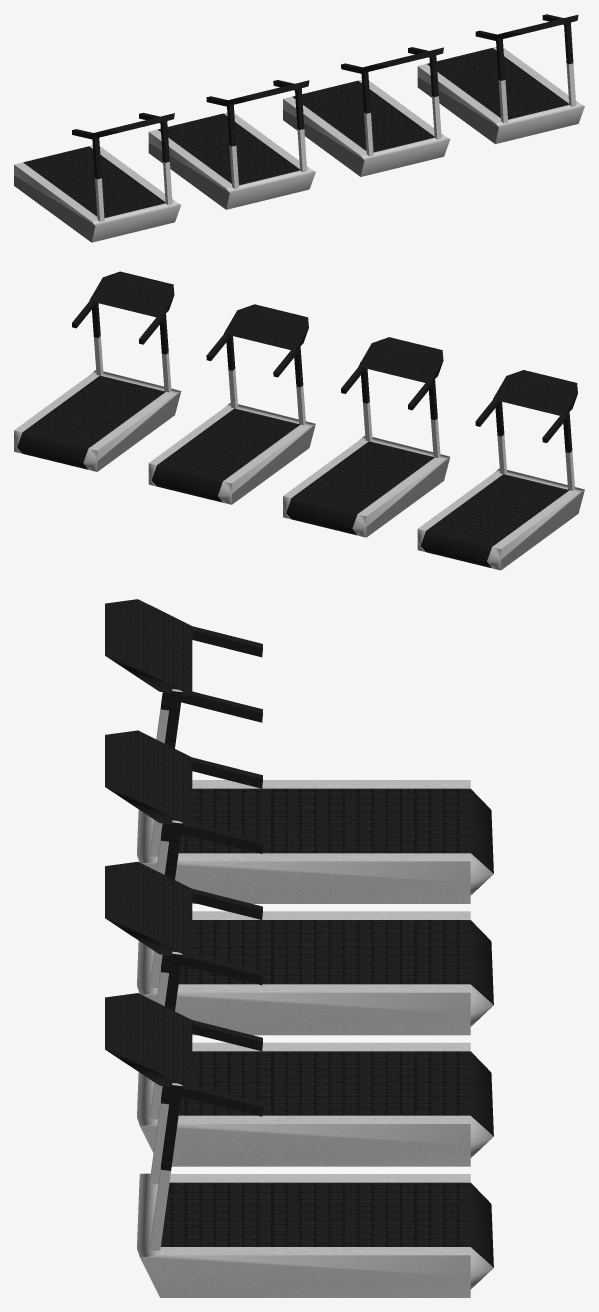
The model's file is model_trainingroom_item01.obj.
3 views of the same model, one above another, from view 1: azimuth 30°, elevation 25°; view 2: azimuth 150°, elevation 25°; view 3: azimuth 270°, elevation 25° (orthographic). The views are drawn at different scales.
Visible parts, largest first — view 1: pCube1 group13 group17 group46 group53, group17 group46 group53 pasted__pasted__pCube1 pasted__pasted__g, group17 group46 group53 pasted__pasted__pasted__pCube1 pasted__p, group17 group46 group53 pasted__pCube1 pasted__group13 group14, group17 group46 group53 pasted__pasted__group13 pasted__group14 , group17 group46 group53 pasted__pasted__pasted__group13 pasted__, group17 group46 group53 pasted__group13 group14 pasted__pasted__, group13 group17 group46 group53 pasted__pasted__pCube2 pasted__g, group13 group17 group46 group53 pasted__pCube2 group9, group13 group17 group46 group53 pCube2, group17 group46 group53 pasted__group13 group14 pasted__pCube2; view 2: group17 group46 group53 pasted__pasted__pCube1 pasted__pasted__g, group17 group46 group53 pasted__pCube1 pasted__group13 group14, pCube1 group13 group17 group46 group53, group17 group46 group53 pasted__pasted__pasted__pCube1 pasted__p, group17 group46 group53 pasted__pasted__group13 pasted__group14 , group17 group46 group53 pasted__pasted__pasted__group13 pasted__, group17 group46 group53 pasted__group13 group14 pasted__pasted__, group13 group17 group46 group53 pasted__pasted__pCube2 pasted__g, group13 group17 group46 group53 pasted__pCube2 group9, group17 group46 group53 pasted__group13 group14 pasted__pCube2, group13 group17 group46 group53 pCube2; view 3: group17 group46 group53 pasted__pasted__pasted__pCube1 pasted__p, group17 group46 group53 pasted__pasted__pCube1 pasted__pasted__g, group17 group46 group53 pasted__pCube1 pasted__group13 group14, pCube1 group13 group17 group46 group53, group17 group46 group53 pasted__pasted__pasted__group13 pasted__, group17 group46 group53 pasted__pasted__group13 pasted__group14 , group17 group46 group53 pasted__group13 group14 pasted__pasted__, group13 group17 group46 group53 pasted__pasted__pCube2 pasted__g, group13 group17 group46 group53 pasted__pasted__pasted__pCube2 p, group17 group46 group53 pasted__group13 group14 pasted__pCube2, group13 group17 group46 group53 pCube2.
Part boxes in pixels (x1,y1,x2,y2): pCube1 group13 group17 group46 group53: (14,145,181,242); group17 group46 group53 pasted__pasted__pCube1 pasted__pasted__g: (283,79,450,176); group17 group46 group53 pasted__pasted__pasted__pCube1 pasted__p: (417,47,584,144); group17 group46 group53 pasted__pCube1 pasted__group13 group14: (148,112,315,209); group17 group46 group53 pasted__pasted__group13 pasted__group14 : (341,47,443,156); group17 group46 group53 pasted__pasted__pasted__group13 pasted__: (475,14,578,123); group17 group46 group53 pasted__group13 group14 pasted__pasted__: (206,80,309,188); group13 group17 group46 group53 pasted__pasted__pCube2 pasted__g: (72,113,174,139); group13 group17 group46 group53 pasted__pCube2 group9: (92,134,104,221); group13 group17 group46 group53 pCube2: (160,121,172,205); group17 group46 group53 pasted__group13 group14 pasted__pCube2: (295,88,306,172); group17 group46 group53 pasted__pasted__pCube1 pasted__pasted__g: (148,403,315,504); group17 group46 group53 pasted__pCube1 pasted__group13 group14: (283,435,450,537); pCube1 group13 group17 group46 group53: (417,468,584,570); group17 group46 group53 pasted__pasted__pasted__pCube1 pasted__p: (14,370,181,471); group17 group46 group53 pasted__pasted__group13 pasted__group14 : (206,304,308,425); group17 group46 group53 pasted__pasted__pasted__group13 pasted__: (72,271,174,392); group17 group46 group53 pasted__group13 group14 pasted__pasted__: (341,337,443,457); group13 group17 group46 group53 pasted__pasted__pCube2 pasted__g: (493,370,577,442); group13 group17 group46 group53 pasted__pCube2 group9: (563,410,574,490); group17 group46 group53 pasted__group13 group14 pasted__pCube2: (360,362,372,441); group13 group17 group46 group53 pCube2: (494,394,506,474); group17 group46 group53 pasted__pasted__pasted__pCube1 pasted__p: (137,1173,493,1297); group17 group46 group53 pasted__pasted__pCube1 pasted__pasted__g: (137,1042,493,1166); group17 group46 group53 pasted__pCube1 pasted__group13 group14: (137,911,493,1035); pCube1 group13 group17 group46 group53: (137,780,493,903); group17 group46 group53 pasted__pasted__pasted__group13 pasted__: (105,993,262,1250); group17 group46 group53 pasted__pasted__group13 pasted__group14 : (105,861,262,1119); group17 group46 group53 pasted__group13 group14 pasted__pasted__: (105,730,262,874); group13 group17 group46 group53 pasted__pasted__pCube2 pasted__g: (105,599,262,695); group13 group17 group46 group53 pasted__pasted__pasted__pCube2 p: (181,691,262,722); group17 group46 group53 pasted__group13 group14 pasted__pCube2: (150,820,182,988); group13 group17 group46 group53 pCube2: (150,689,182,856).
Size of the model in its own units: 3.64 by 0.8306 by 1.25.
Materials: 9 (8 with a texture image).
